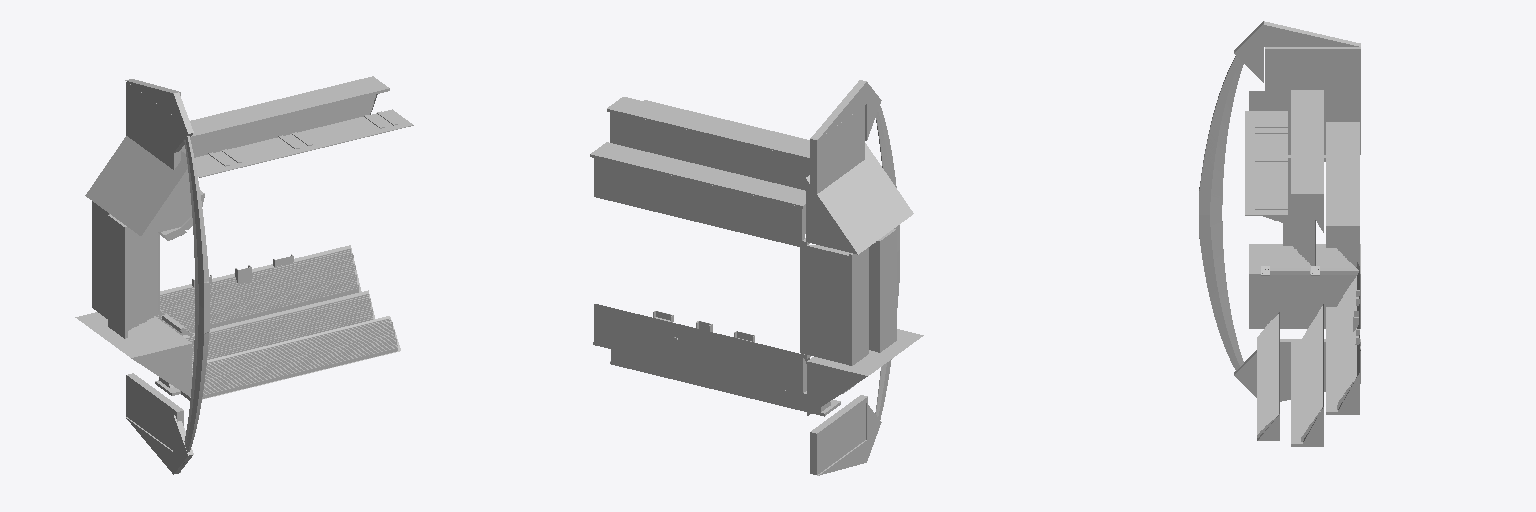
The model's file is Estadio.obj.
3 renders of one model, left to right at view 1: azimuth 30°, elevation 25°; view 2: azimuth 150°, elevation 25°; view 3: azimuth 270°, elevation 25°, orthographic.
Visible parts, largest first — view 1: obj_0; view 2: obj_0; view 3: obj_0.
Boxes of the visible parts, box(x1,y1,x2,y2) form: obj_0: box(75, 76, 413, 474); obj_0: box(590, 80, 923, 475); obj_0: box(1199, 21, 1360, 446).
Size of the model in its own units: 198 by 256 by 98.